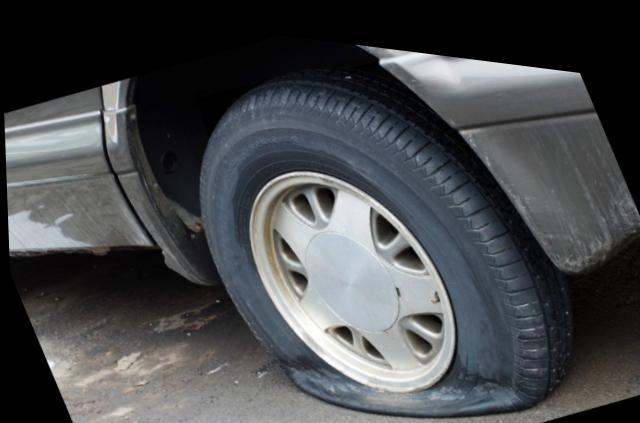tire flat: (199, 56, 563, 405)
